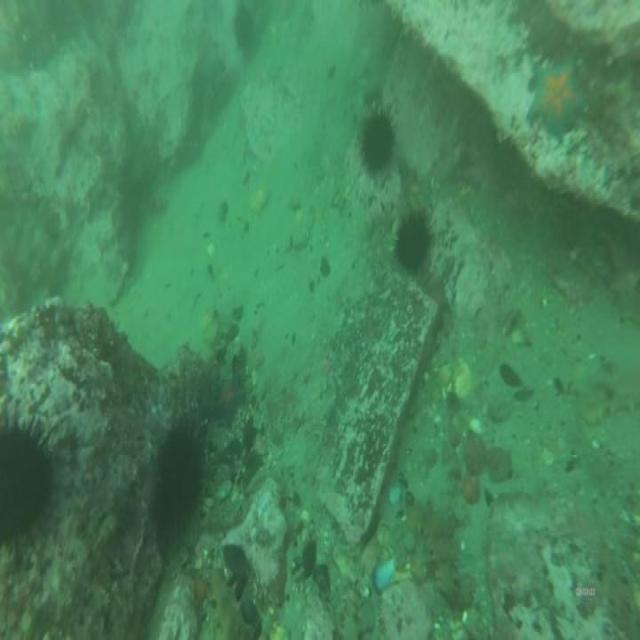echinus: (2, 425, 50, 548), (158, 425, 203, 544), (396, 208, 430, 272), (362, 114, 396, 172)
holothurian: (407, 509, 461, 599), (575, 379, 640, 424)
starfish: (528, 58, 584, 133), (215, 376, 244, 422)
